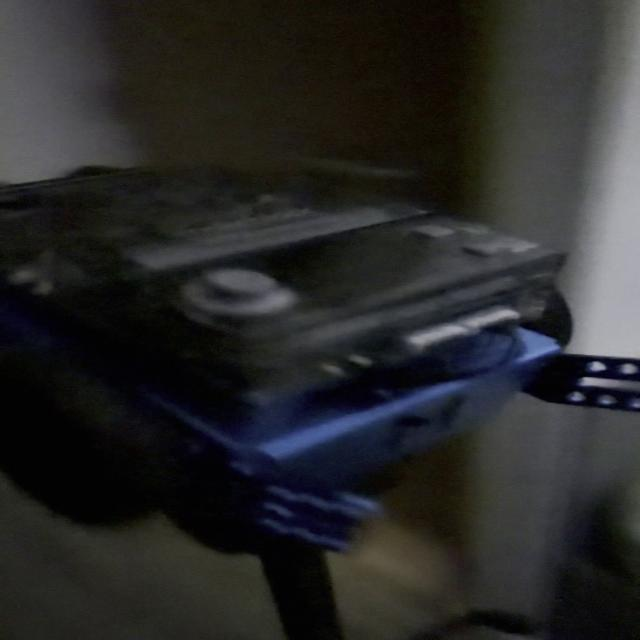mbot-detection: (0, 144, 640, 562)
